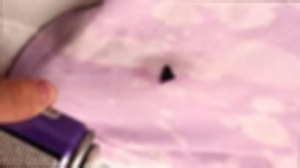ink: (157, 65, 175, 84)
